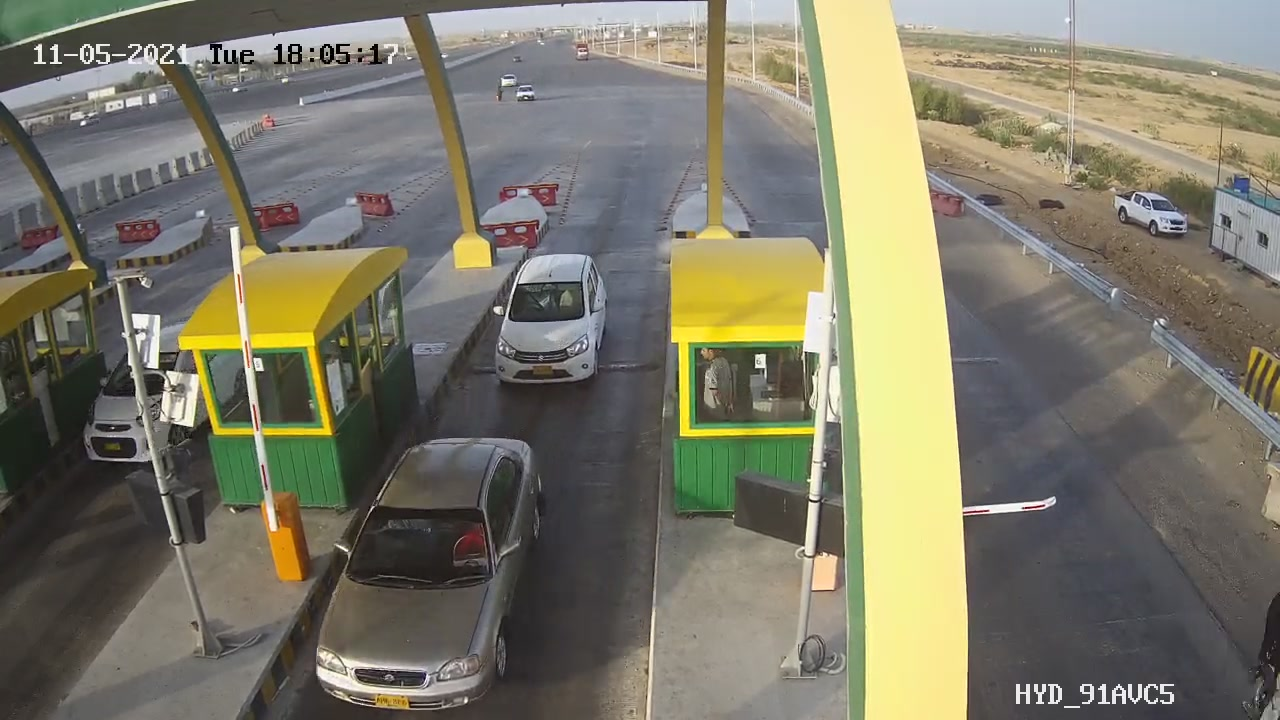F1: (477, 247, 627, 412)
